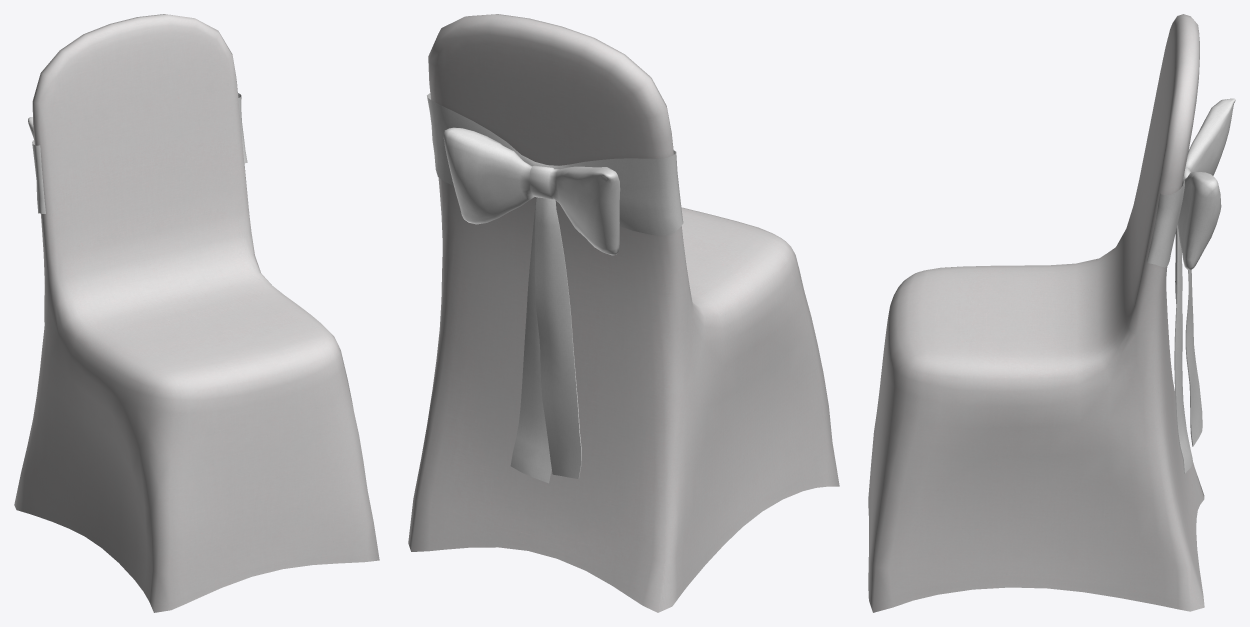
Rendered from EventChair03.FBX.
3 views of the same model, side by side, from view 1: azimuth 30°, elevation 25°; view 2: azimuth 150°, elevation 25°; view 3: azimuth 270°, elevation 25° (orthographic). The views are drawn at different scales.
Visible parts, largest first — view 1: EventChair03; view 2: EventChair03; view 3: EventChair03.
Boxes of the visible parts, left/top/right/bottom form: EventChair03: left=14, top=14, right=379, bottom=612; EventChair03: left=408, top=14, right=839, bottom=612; EventChair03: left=868, top=14, right=1235, bottom=612.
Size of what is drawn, in the model's own units: 0.5368 by 1.07 by 0.6874.
